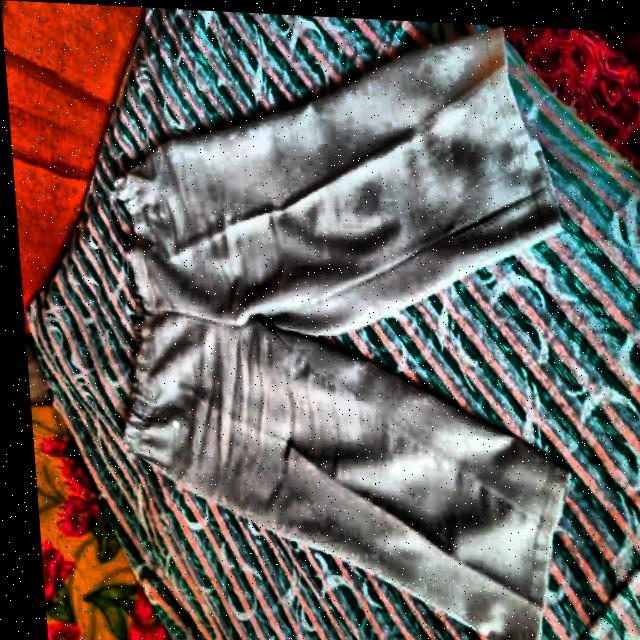clothes: (89, 5, 594, 640)
